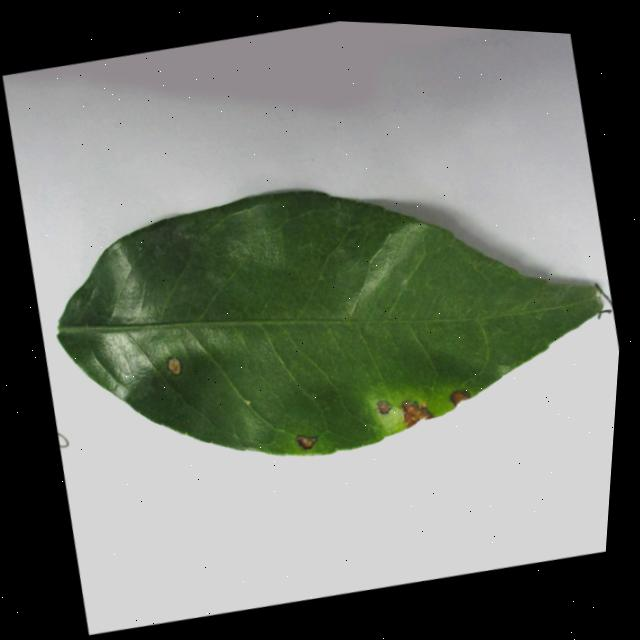antracnose: (56, 190, 601, 455), (401, 400, 431, 426), (449, 389, 469, 404), (295, 434, 316, 448), (165, 356, 180, 373), (376, 400, 390, 413)
